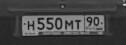license-plateSW: (21, 14, 106, 32)
